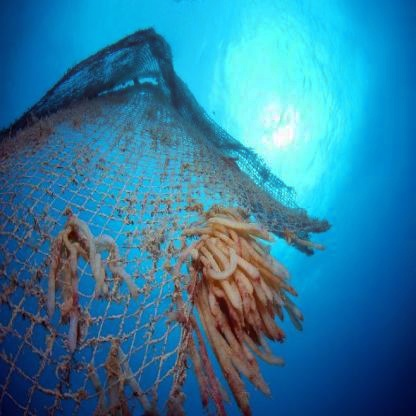net: (1, 31, 321, 416)
